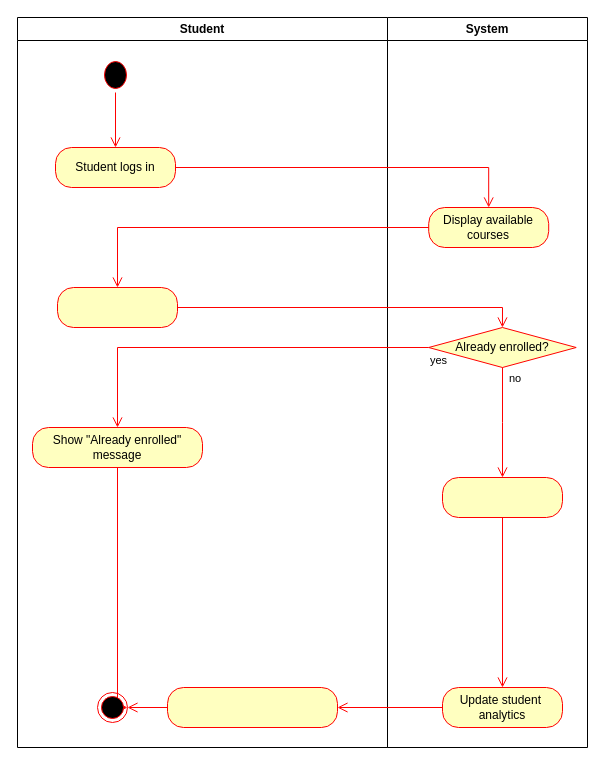
Image size: 605x765. Some labels were removed from this diagram. The shapes that lost their labels are listed below. From the top down, each one's centre as x and y in pixels, then its label:
At [117,307]: "Student selects a course".
At [502,497]: "Enroll student".
At [252,707]: "Show enrollment confirmaction message".
